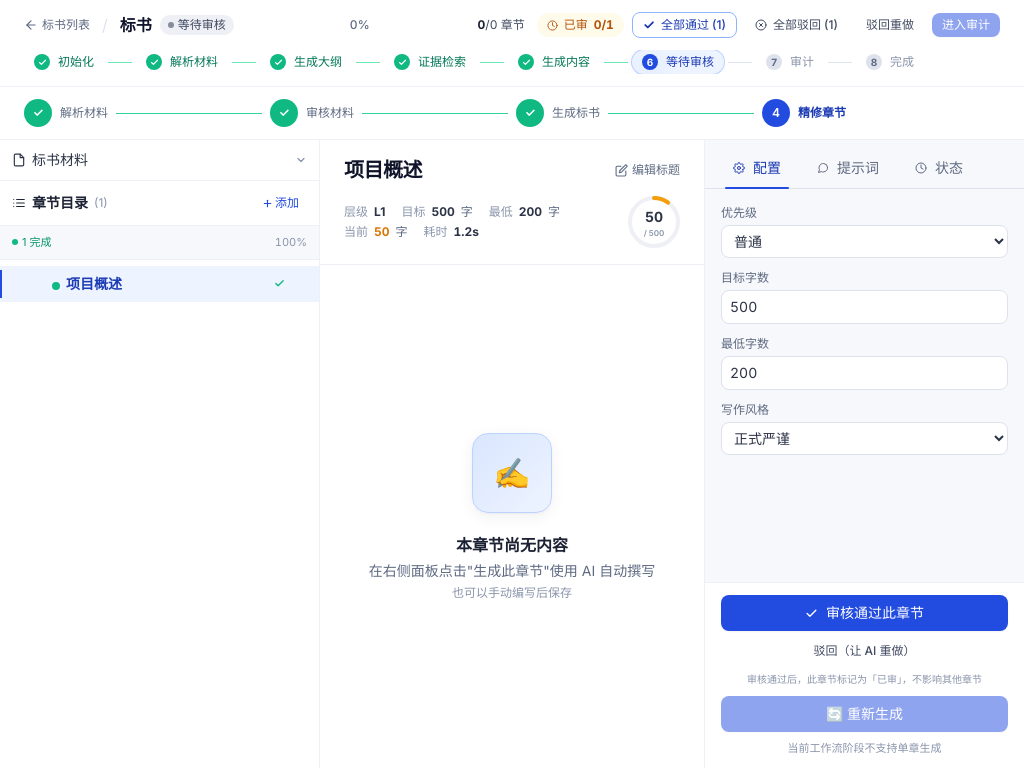
Test case: BidWorkspace — RejectionReasonModal › clicking a quick-pick chip auto-fills the textarea with that label
Step 1. Click the button "驳回（让 AI 重做）" → (864, 651), box x1=721 y1=639 x2=1008 y2=663
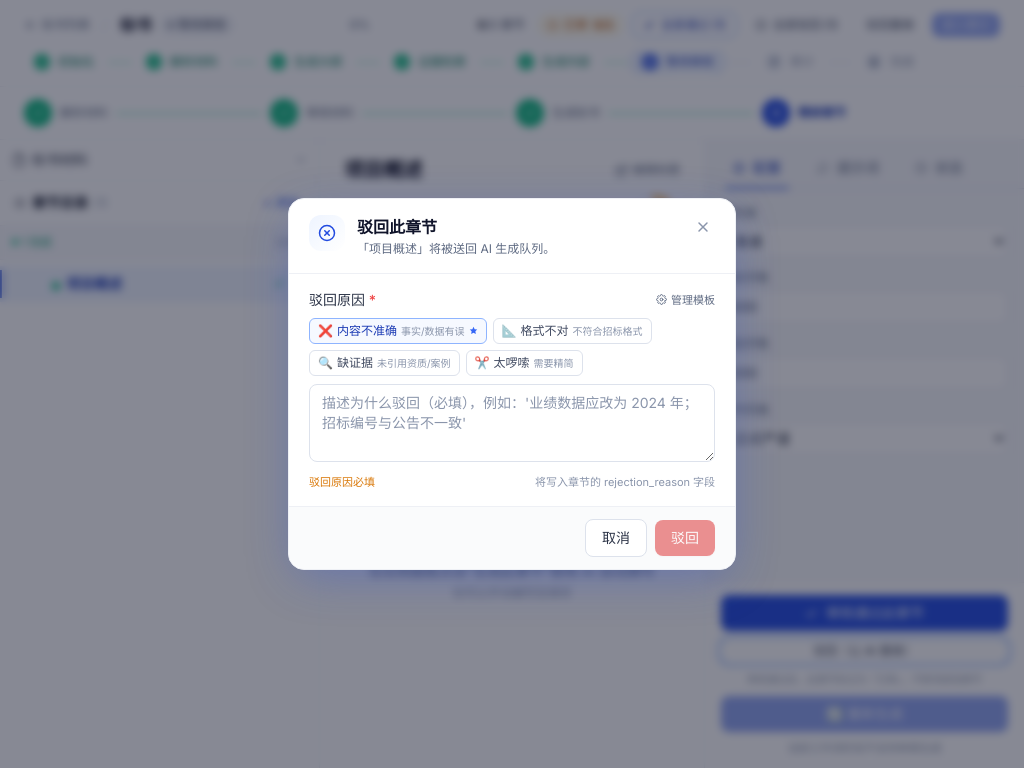
Step 2. Click the button "🔍 缺证据 未引用资质/案例" → (384, 363), box x1=309 y1=350 x2=460 y2=376
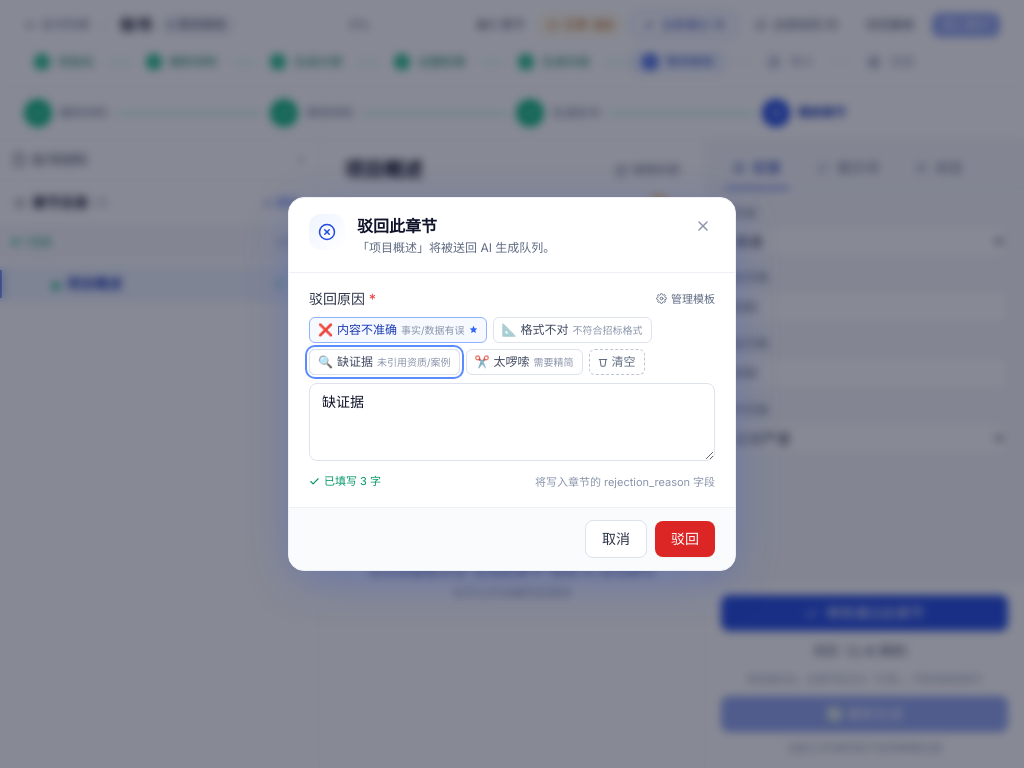
Result: the text box with placeholder "描述为什么驳回（必填），例如：'业绩数据应改为 2024 年；招标编号与公告不一致'" holds "缺证据" at x1=309 y1=383 x2=715 y2=461
Result: the button "驳回" is enabled at x1=655 y1=521 x2=715 y2=557
